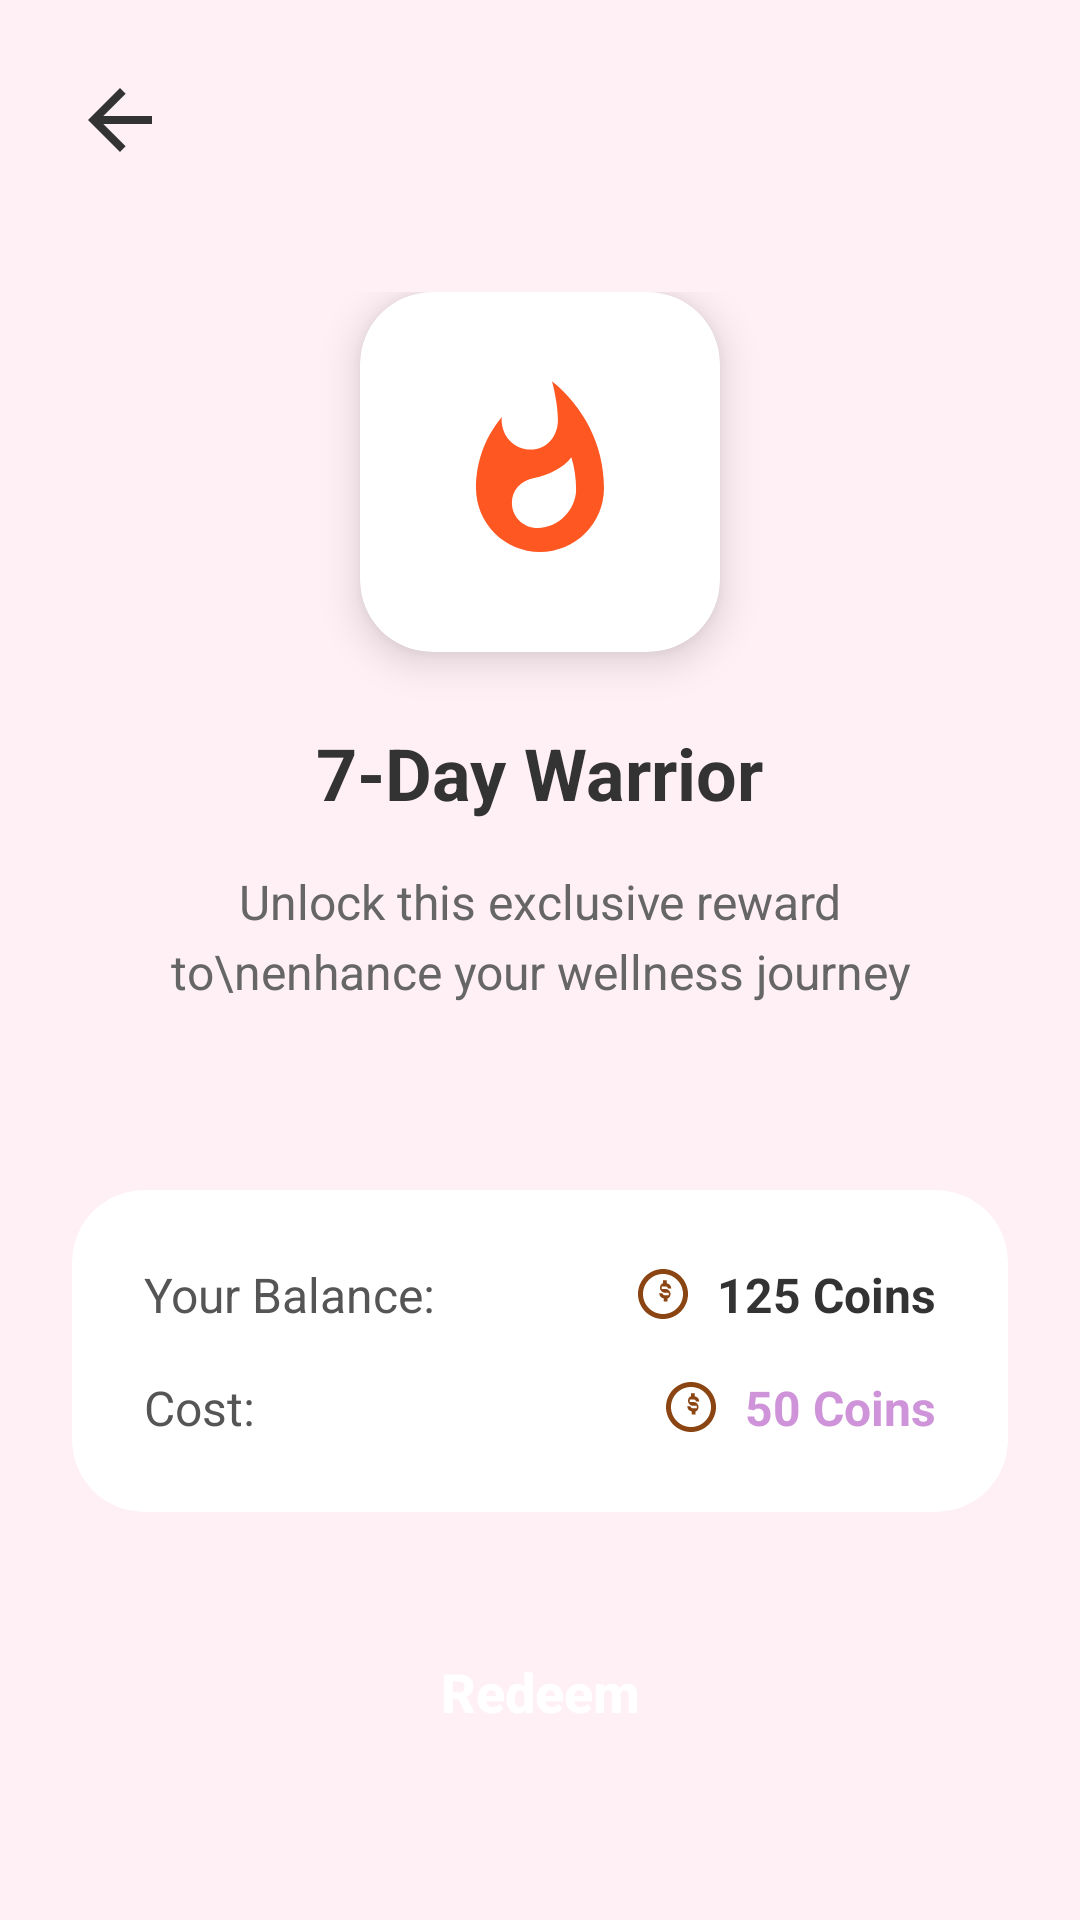

Point at icon controls on the screen. Image size 1080px×1920px, points as (x=x, y=y).
arrow back: (x=120, y=120)
fire: (x=540, y=466)
